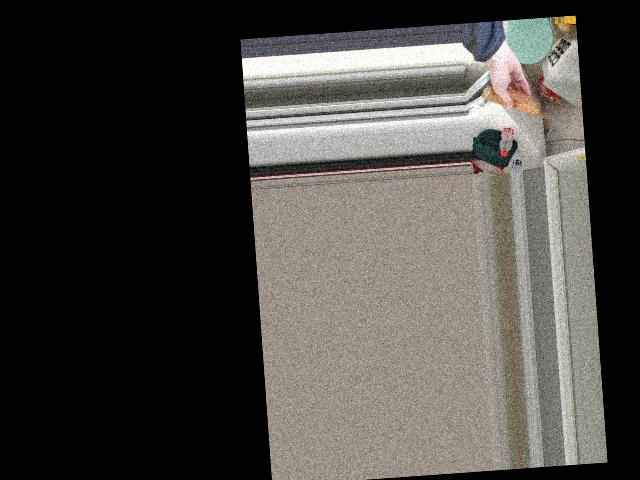sweet_potato: (485, 83, 534, 119)
